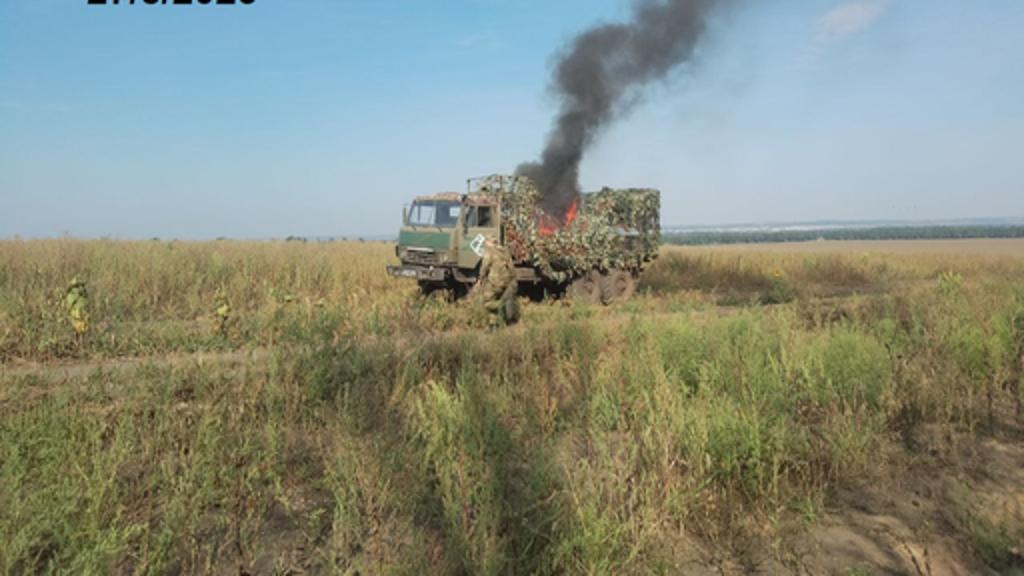TRUCK: (380, 168, 668, 312)
